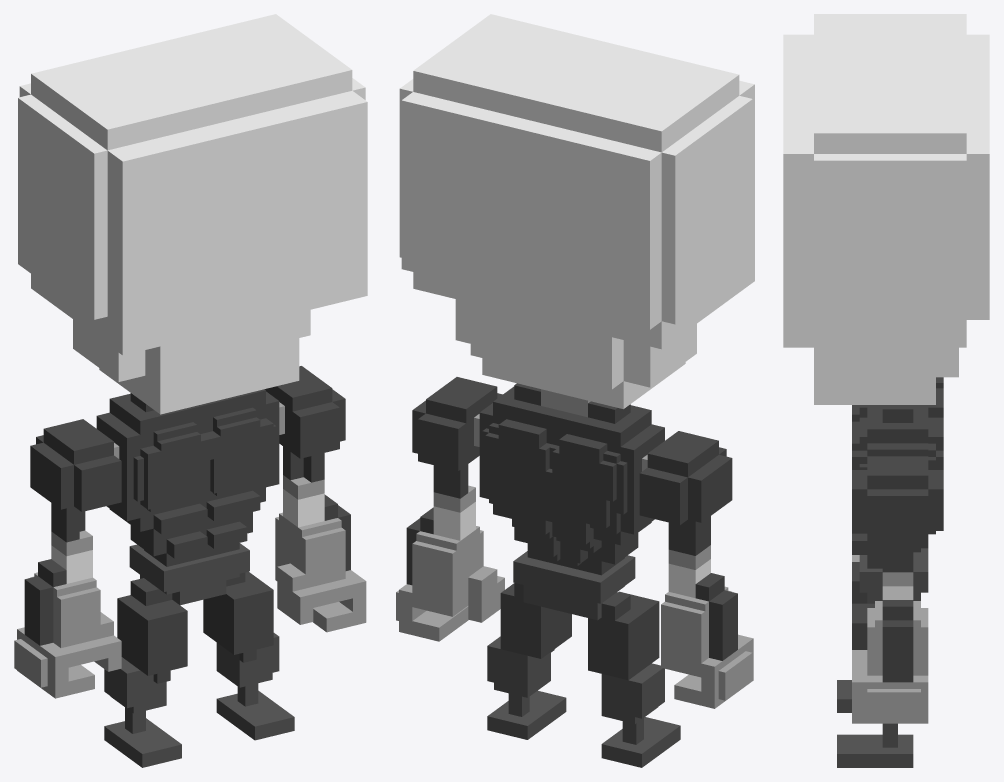
Rendered from PlayerDarkWhole-1-PlayerDark_Whole.obj.
3 views of the same model, side by side, from view 1: azimuth 30°, elevation 25°; view 2: azimuth 150°, elevation 25°; view 3: azimuth 270°, elevation 25° (orthographic).
Parts seen in each view (by area): view 1: PlayerDark_Whole; view 2: PlayerDark_Whole; view 3: PlayerDark_Whole.
Boxes of the visible parts, x1,y1,x2,y2 form: PlayerDark_Whole: (14,14,367,767); PlayerDark_Whole: (396,14,754,767); PlayerDark_Whole: (783,14,989,767).
Bounding box in the file's own units: 4.9 × 9.5 × 2.7.
1 material, 1 textured.
